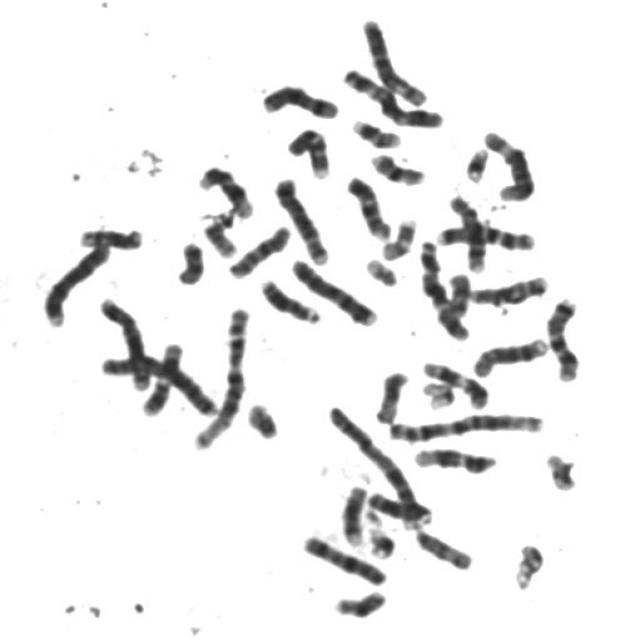A1: (188, 299, 254, 453), (382, 403, 549, 445)
A2: (322, 398, 429, 530), (95, 347, 224, 417)
A3: (337, 59, 450, 129), (413, 232, 475, 342)
B4: (286, 251, 382, 327), (38, 236, 115, 327)
B5: (268, 168, 334, 266), (94, 289, 156, 393)
C10: (464, 268, 558, 320), (223, 217, 296, 280)
C11: (136, 334, 188, 418), (417, 354, 494, 410)
C12: (193, 158, 258, 220), (408, 439, 501, 475)
C6: (356, 9, 432, 109), (478, 123, 540, 202)
C7: (541, 289, 585, 383), (431, 216, 540, 252)
C8: (442, 187, 491, 273), (468, 329, 552, 379)
C9: (340, 168, 396, 242), (282, 120, 336, 179)
D13: (256, 272, 326, 324), (362, 483, 436, 526)
D14: (336, 477, 373, 548), (74, 220, 148, 250)
D15: (408, 520, 478, 572), (369, 363, 414, 425)
E16: (366, 145, 430, 187), (511, 539, 547, 594)
E17: (376, 210, 421, 261), (347, 112, 406, 149)
E18: (172, 232, 209, 287), (441, 266, 473, 318)
F19: (332, 586, 396, 618), (417, 373, 461, 410)
F20: (240, 395, 286, 443), (198, 214, 242, 258)
G21: (362, 518, 401, 560), (459, 140, 494, 183)
G22: (540, 452, 582, 498), (359, 250, 402, 288)
X: (297, 527, 393, 587), (256, 76, 343, 120)
